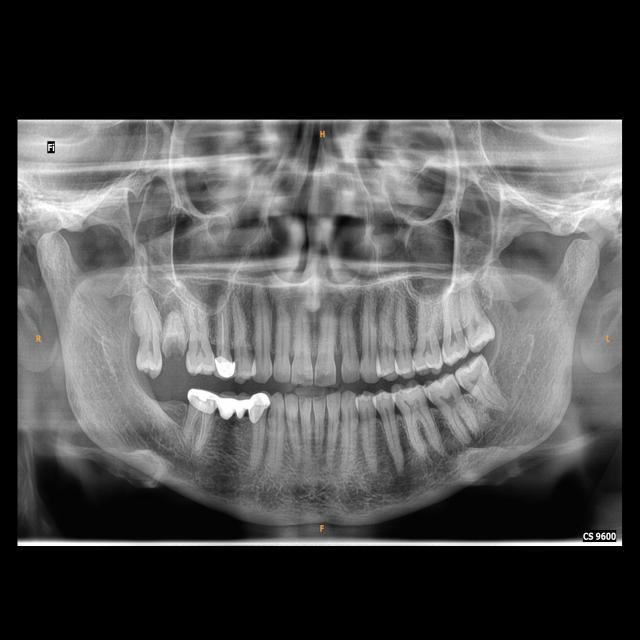dentin-curugu: (162, 337, 186, 361)
kanal-tedavisi: (183, 412, 209, 447), (218, 310, 230, 360)
kaplama: (184, 388, 218, 414), (248, 393, 271, 424), (217, 352, 236, 378)
kopru: (218, 390, 250, 426)
